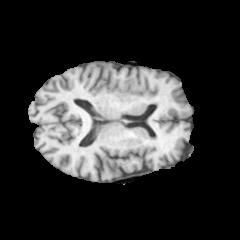glioma: (113, 76, 145, 99)
